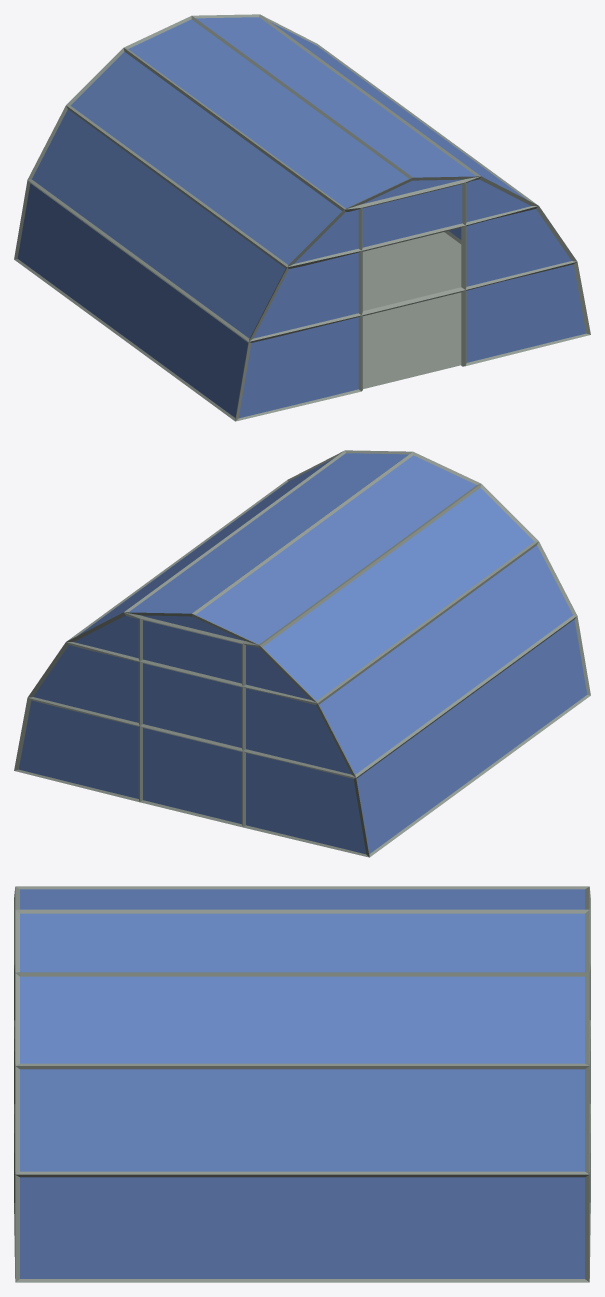
Rendered from GreenHouse_1.fbx.
3 views of the same model, one above another, from view 1: azimuth 30°, elevation 25°; view 2: azimuth 150°, elevation 25°; view 3: azimuth 270°, elevation 25° (orthographic). The views are drawn at different scales.
Parts seen in each view (by area): view 1: GreenHouse_1; view 2: GreenHouse_1; view 3: GreenHouse_1.
Boxes of the visible parts, x1,y1,x2,y2 form: GreenHouse_1: (14,14,590,421); GreenHouse_1: (14,450,590,857); GreenHouse_1: (14,886,590,1282).
Bounding box in the file's own units: 588 × 321 × 637.
